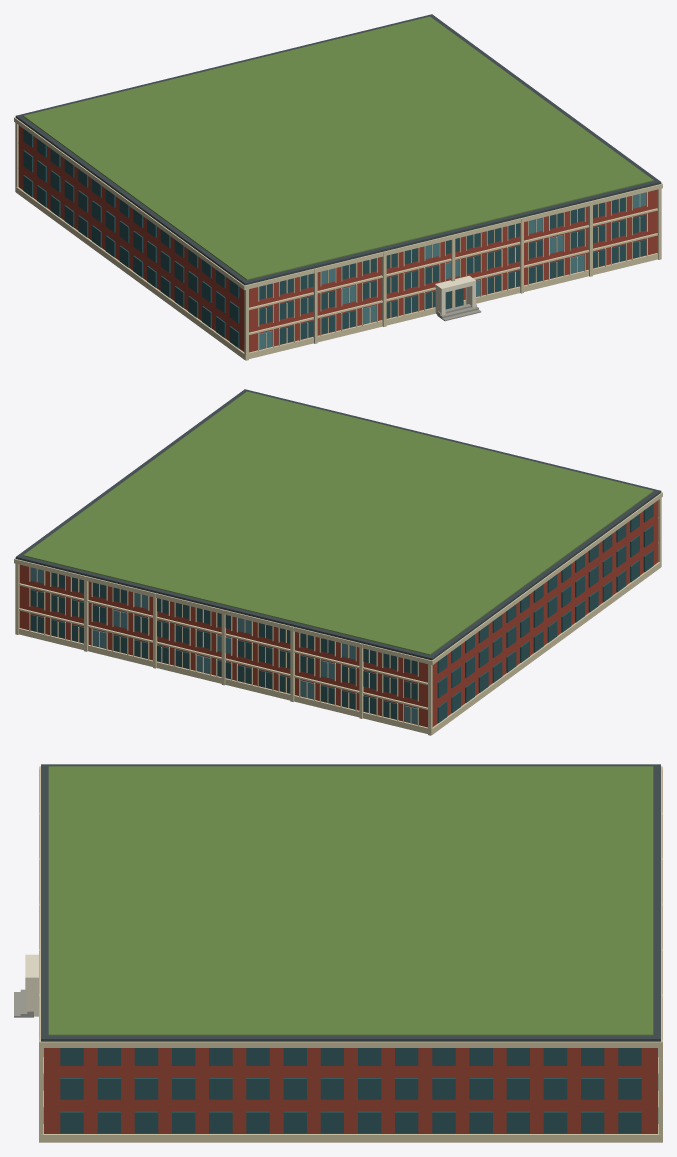
3 renders of one model, top to bottom at view 1: azimuth 30°, elevation 25°; view 2: azimuth 150°, elevation 25°; view 3: azimuth 270°, elevation 25°, orthographic. The views are drawn at different scales.
Parts seen in each view (by area): view 1: GreenRoof, MainBlock_Structure, MainBlock_WindowGlass, MainBlock_SideWindows, MainBlock_Roof, MainBlock_WindowFrames, MainBlock_Plinth, MainBlock_Cornice, MainBlock_Pilasters, MainBlock_FloorBands; view 2: GreenRoof, MainBlock_Structure, MainBlock_WindowGlass, MainBlock_SideWindows, MainBlock_Roof, MainBlock_WindowFrames, MainBlock_Plinth, MainBlock_Cornice, MainBlock_Pilasters, MainBlock_FloorBands; view 3: GreenRoof, MainBlock_Structure, MainBlock_SideWindows, MainBlock_Roof, MainBlock_Plinth, MainBlock_Cornice, MainBlock_Pilasters.
Boxes of the visible parts, x1,y1,x2,y2 form: GreenRoof: (23, 16, 653, 280); MainBlock_Structure: (18, 125, 657, 352); MainBlock_WindowGlass: (259, 192, 646, 349); MainBlock_SideWindows: (23, 129, 239, 348); MainBlock_Roof: (15, 14, 661, 285); MainBlock_WindowFrames: (258, 192, 647, 351); MainBlock_Plinth: (16, 187, 657, 359); MainBlock_Cornice: (14, 117, 662, 290); MainBlock_Pilasters: (15, 123, 661, 360); MainBlock_FloorBands: (18, 142, 657, 334); GreenRoof: (23, 391, 653, 655); MainBlock_Structure: (19, 500, 658, 727); MainBlock_WindowGlass: (30, 567, 417, 724); MainBlock_SideWindows: (437, 504, 653, 723); MainBlock_Roof: (15, 389, 661, 660); MainBlock_WindowFrames: (29, 567, 418, 726); MainBlock_Plinth: (19, 562, 660, 734); MainBlock_Cornice: (14, 492, 662, 665); MainBlock_Pilasters: (15, 498, 661, 735); MainBlock_FloorBands: (19, 517, 658, 709); GreenRoof: (48, 766, 653, 1035); MainBlock_Structure: (44, 1048, 657, 1133); MainBlock_SideWindows: (60, 1048, 641, 1133); MainBlock_Roof: (41, 764, 660, 1041); MainBlock_Plinth: (41, 1109, 660, 1142); MainBlock_Cornice: (39, 766, 662, 1047); MainBlock_Pilasters: (39, 767, 662, 1142).
Bounding box in the file's own units: 68.63 × 12.18 × 68.17.
